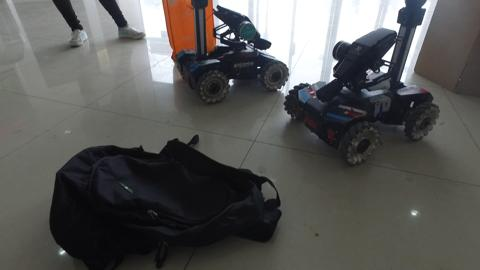bag: (50, 139, 284, 269)
chariot: (285, 1, 447, 164), (173, 2, 290, 103)
